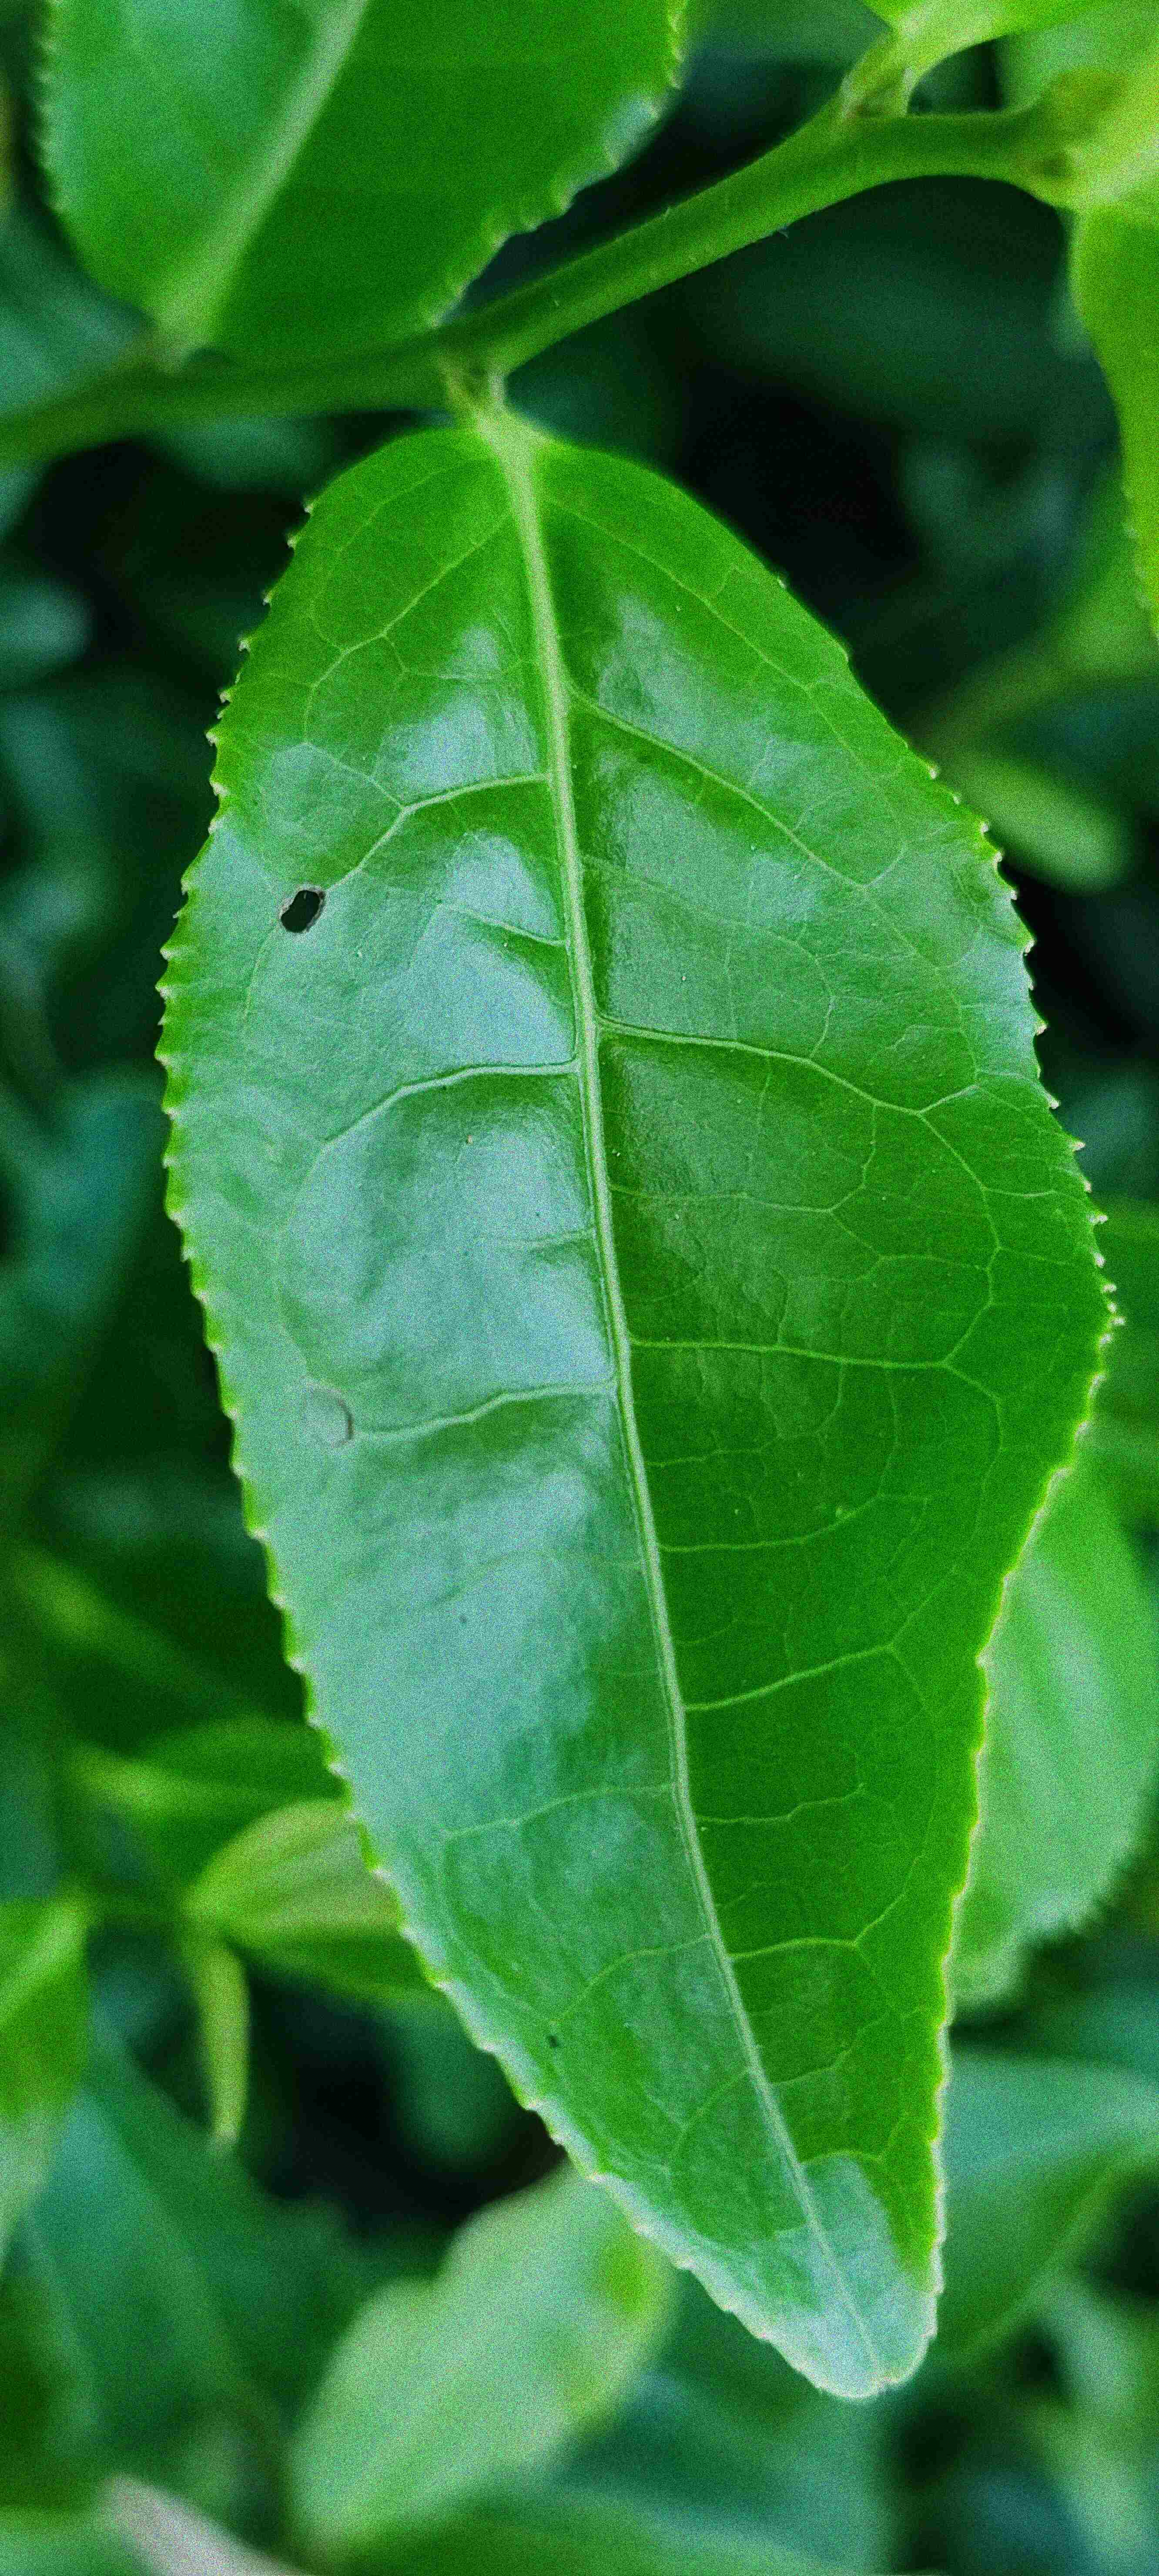chihuo_low: (141, 411, 1129, 2408)
healthy: (33, 13, 699, 356)
